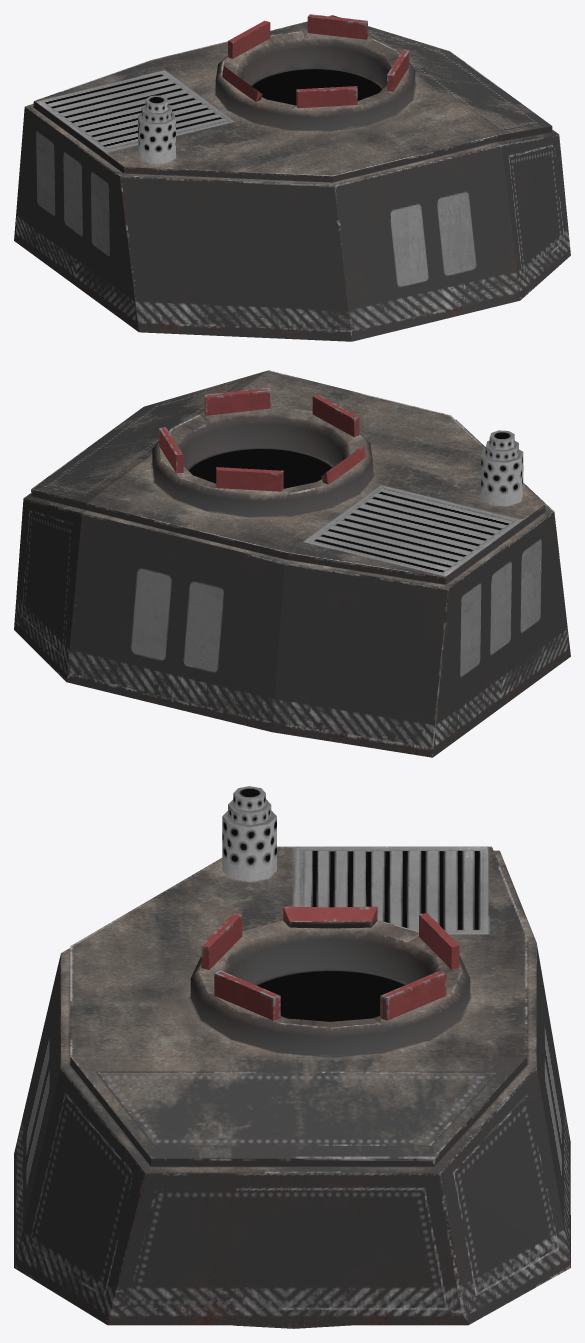
Rendered from AntiTankTurret_Dome.fbx.
3 renders of one model, top to bottom at view 1: azimuth 30°, elevation 25°; view 2: azimuth 150°, elevation 25°; view 3: azimuth 270°, elevation 25°, orthographic. The views are drawn at different scales.
Parts seen in each view (by area): view 1: SM_AntiTankTurret_Dome; view 2: SM_AntiTankTurret_Dome; view 3: SM_AntiTankTurret_Dome.
Boxes of the visible parts, box(x1,y1,x2,y2) form: SM_AntiTankTurret_Dome: box(14, 14, 570, 341); SM_AntiTankTurret_Dome: box(14, 370, 570, 757); SM_AntiTankTurret_Dome: box(14, 786, 570, 1328).
Bounding box in the file's own units: 257 × 219 × 134.
